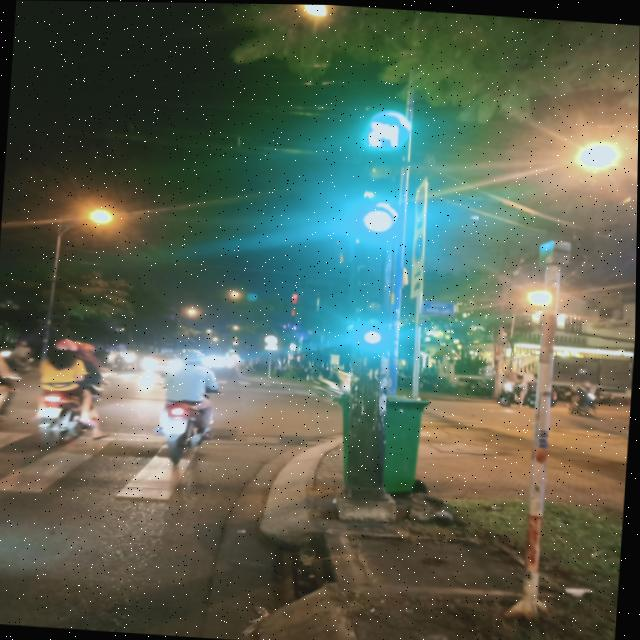Green: (351, 155, 407, 255), (351, 291, 397, 349)
